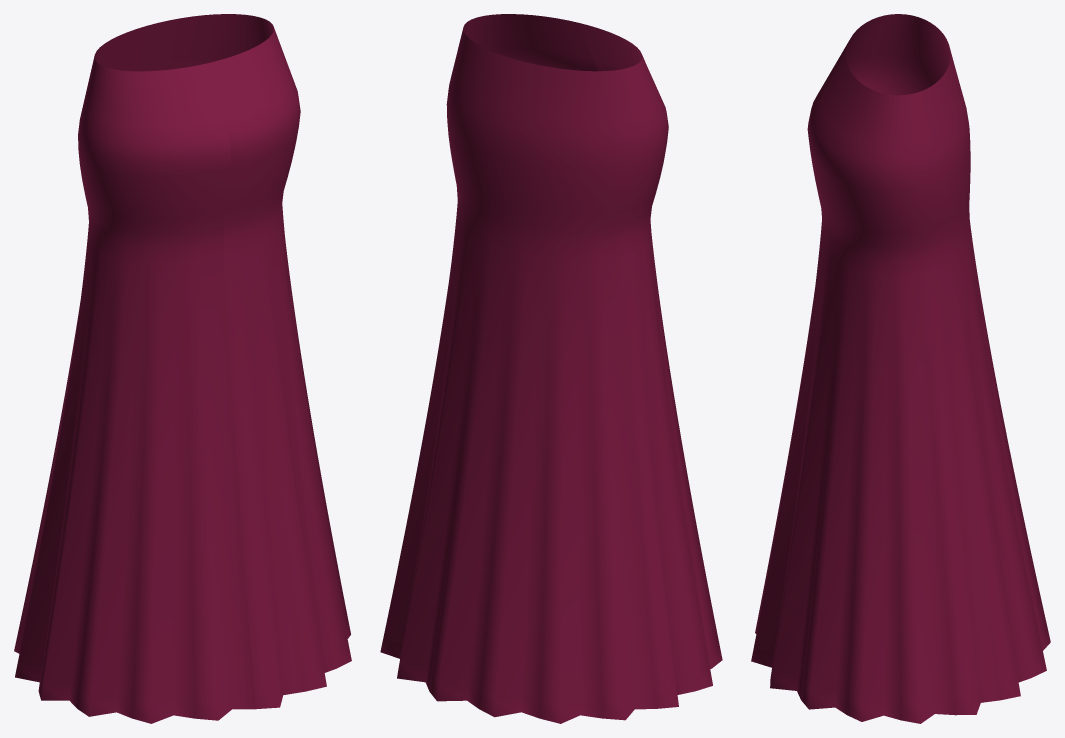
The model's file is dress_saree.glb.
3 renders of one model, left to right at view 1: azimuth 30°, elevation 25°; view 2: azimuth 150°, elevation 25°; view 3: azimuth 270°, elevation 25°, orthographic. The views are drawn at different scales.
Parts seen in each view (by area): view 1: Dress_Saree_Mesh; view 2: Dress_Saree_Mesh; view 3: Dress_Saree_Mesh.
Part boxes in pixels (bbox=[...]): Dress_Saree_Mesh: bbox=[14, 14, 351, 723]; Dress_Saree_Mesh: bbox=[380, 14, 722, 723]; Dress_Saree_Mesh: bbox=[751, 14, 1050, 723].
Bounding box in the file's own units: 0.6525 × 1.26 × 0.5732.
